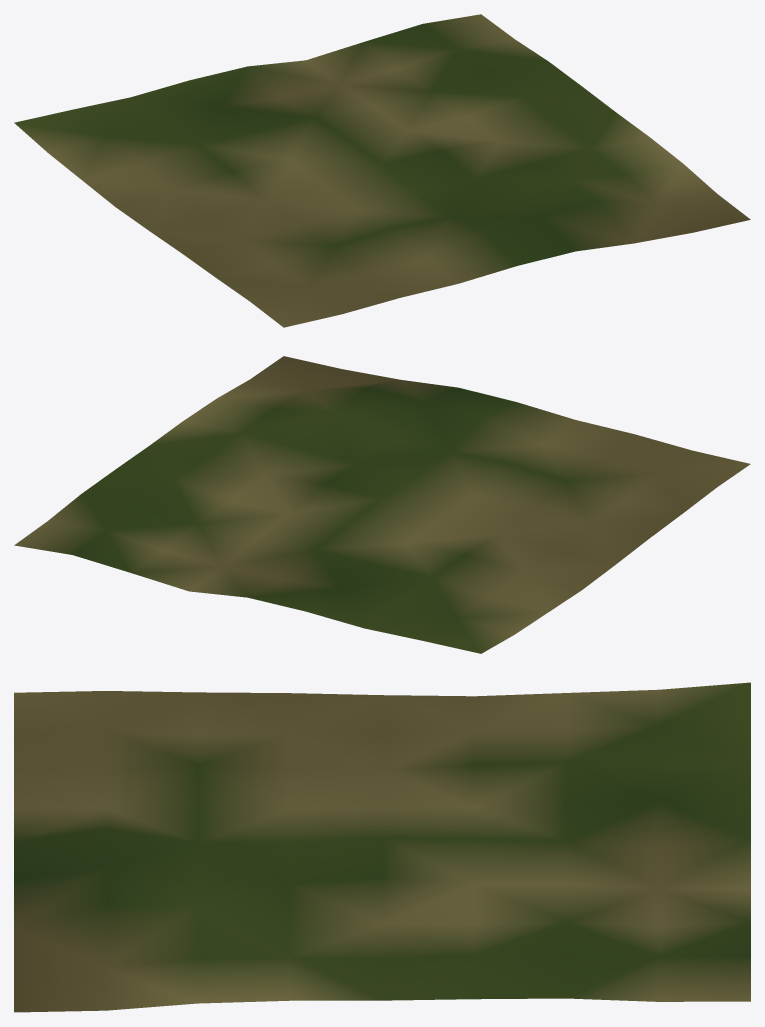
The model's file is terrain_lod2_-1_2.obj.
3 views of the same model, one above another, from view 1: azimuth 30°, elevation 25°; view 2: azimuth 150°, elevation 25°; view 3: azimuth 270°, elevation 25° (orthographic). The views are drawn at different scales.
Parts seen in each view (by area): view 1: terrain_lod2_-1_2; view 2: terrain_lod2_-1_2; view 3: terrain_lod2_-1_2.
Part boxes in pixels (x1,y1,x2,y2): terrain_lod2_-1_2: (14,14,750,327); terrain_lod2_-1_2: (14,356,750,653); terrain_lod2_-1_2: (14,682,750,1012).
Size of the model in its own units: 128 by 5.61 by 128.
